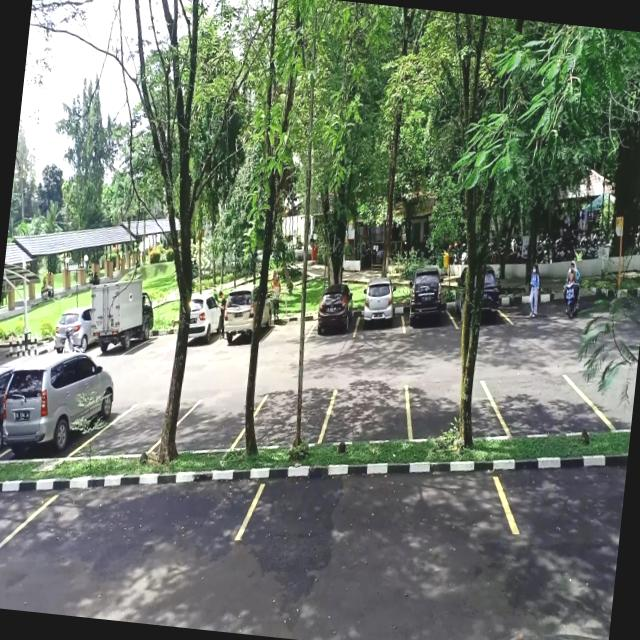car: (0, 360, 114, 463), (402, 284, 454, 335), (354, 290, 406, 338), (312, 293, 361, 343), (0, 382, 7, 466)
free: (248, 452, 520, 560), (20, 464, 257, 572), (498, 452, 624, 548), (497, 367, 597, 441), (407, 374, 503, 445), (323, 378, 410, 447), (252, 386, 334, 454), (96, 392, 168, 461), (173, 393, 247, 457), (584, 359, 638, 430), (0, 478, 36, 559), (265, 306, 313, 346)
